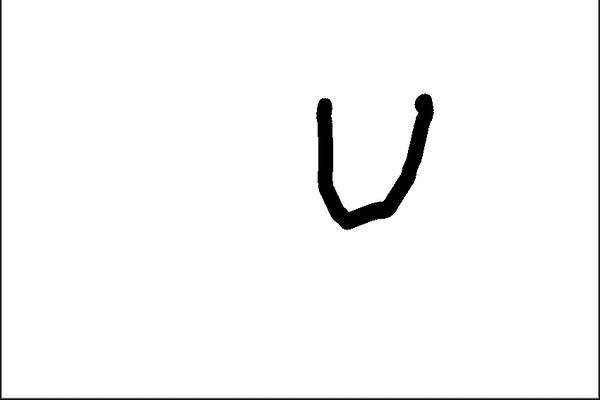U: (300, 84, 444, 230)
